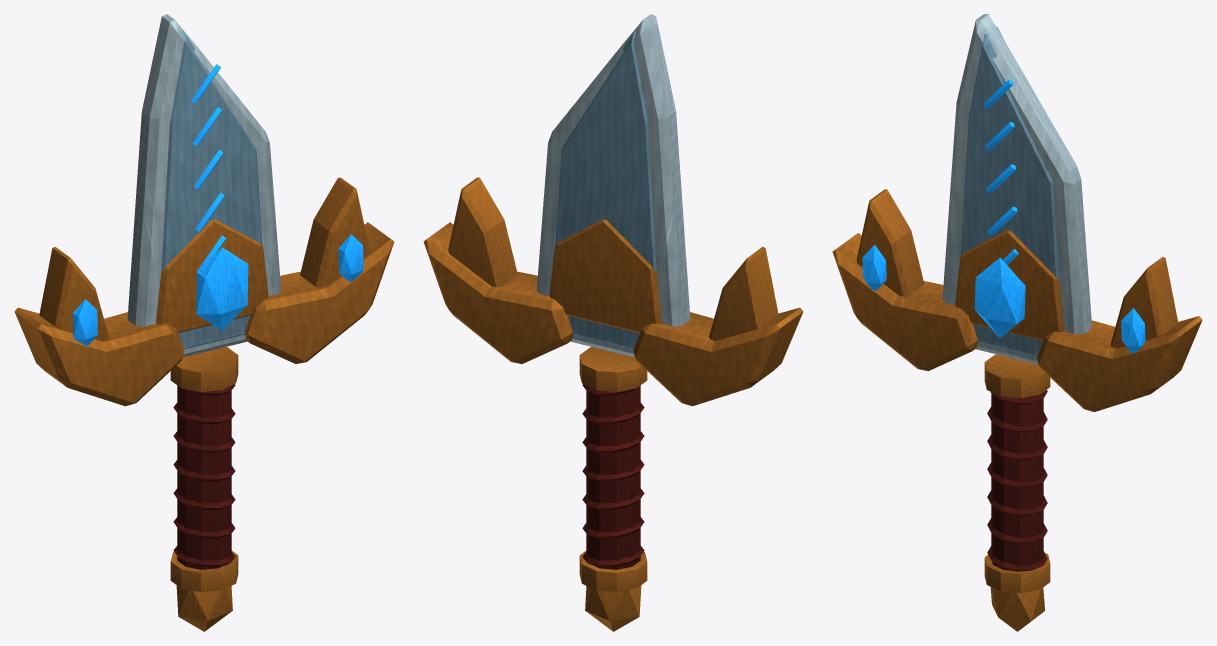
Rendered from dagger-t4.glb.
3 renders of one model, left to right at view 1: azimuth 30°, elevation 25°; view 2: azimuth 150°, elevation 25°; view 3: azimuth 330°, elevation 25°, orthographic. The views are drawn at different scales.
Visible parts, largest first — view 1: Sculpted blade core, Cutting edge, Forged guard, Forged guard.001, Leather grip, Blade collar, Guard fluke.001, Set jewel, Guard fluke, Grip ferrule.001, Faceted pommel, Grip ferrule (+2 smaller); view 2: Sculpted blade core, Cutting edge, Forged guard, Forged guard.001, Blade collar, Leather grip, Guard fluke.001, Guard fluke, Grip ferrule.001, Faceted pommel, Grip ferrule; view 3: Sculpted blade core, Cutting edge, Forged guard.001, Forged guard, Leather grip, Blade collar, Guard fluke, Guard fluke.001, Set jewel, Grip ferrule.001, Faceted pommel, Grip ferrule (+2 smaller).
Part boxes in pixels (x1,y1,x2,y2): Sculpted blade core: (161,31,262,348); Cutting edge: (127,14,281,357); Forged guard: (14,307,184,406); Forged guard.001: (244,222,394,363); Leather grip: (177,385,231,569); Blade collar: (155,219,268,332); Guard fluke.001: (300,177,369,287); Set jewel: (196,247,248,330); Guard fluke: (39,246,108,340); Grip ferrule.001: (170,347,238,391); Faceted pommel: (176,585,232,631); Grip ferrule: (170,551,238,592); Sculpted blade core: (555,31,656,348); Cutting edge: (536,14,690,357); Forged guard: (633,307,803,406); Forged guard.001: (423,222,573,363); Blade collar: (549,219,662,332); Leather grip: (586,385,640,569); Guard fluke.001: (448,177,517,287); Guard fluke: (709,246,778,340); Grip ferrule.001: (579,347,647,391); Faceted pommel: (585,585,641,631); Grip ferrule: (579,551,647,592); Sculpted blade core: (960,26,1058,356); Cutting edge: (942,14,1092,364); Forged guard.001: (1037,316,1202,411); Forged guard: (832,233,978,370); Leather grip: (991,393,1043,570); Blade collar: (955,230,1064,340); Guard fluke: (856,189,924,296); Guard fluke.001: (1110,257,1178,348); Set jewel: (974,257,1025,338); Grip ferrule.001: (984,354,1050,398); Faceted pommel: (990,587,1044,631); Grip ferrule: (984,553,1050,593).
Size of the model in its own units: 0.2396 by 0.4 by 0.0484.
1 material, 1 textured.
